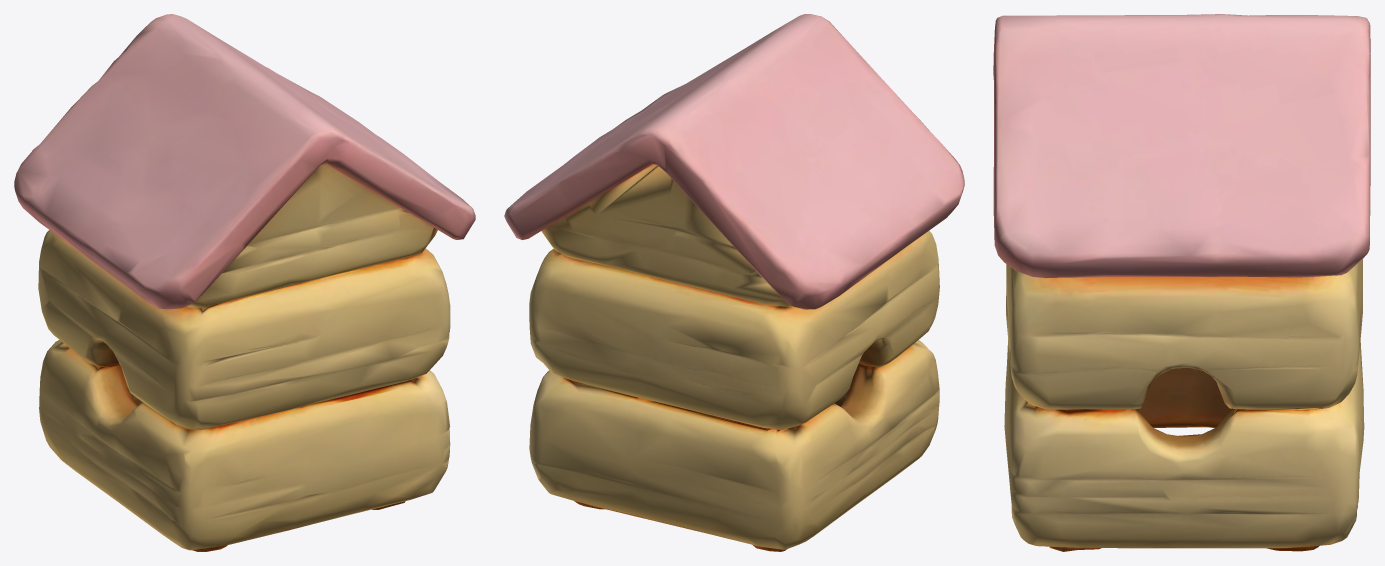
The model's file is beehive.glb.
The picture shows the model from 3 angles, left to right: view 1: azimuth 30°, elevation 25°; view 2: azimuth 150°, elevation 25°; view 3: azimuth 270°, elevation 25°; orthographic projection. The views are drawn at different scales.
Visible parts, largest first — view 1: tripo_node_373ea51f-47cb-46c7-99bb-cf3c93ca5392; view 2: tripo_node_373ea51f-47cb-46c7-99bb-cf3c93ca5392; view 3: tripo_node_373ea51f-47cb-46c7-99bb-cf3c93ca5392.
Part boxes in pixels (left/top/right/bottom): tripo_node_373ea51f-47cb-46c7-99bb-cf3c93ca5392: left=14, top=14, right=475, bottom=551; tripo_node_373ea51f-47cb-46c7-99bb-cf3c93ca5392: left=504, top=14, right=964, bottom=551; tripo_node_373ea51f-47cb-46c7-99bb-cf3c93ca5392: left=993, top=14, right=1370, bottom=551.
Bounding box in the file's own units: 0.8238 × 0.9998 × 0.7175.
Materials: 1 (1 with a texture image).
